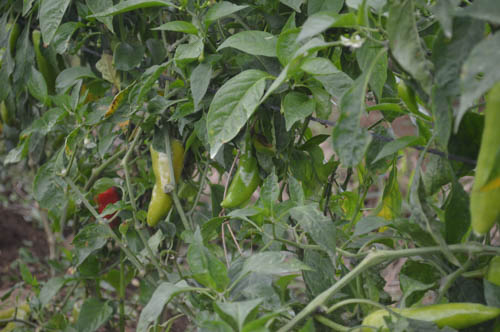ChiliPepper: (362, 303, 497, 331), (146, 144, 181, 230), (219, 158, 258, 214)
